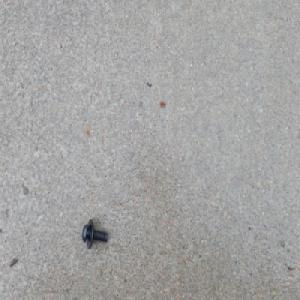BoltWasher: (81, 218, 108, 249)
